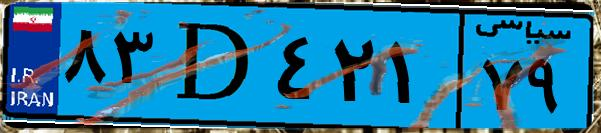1: (385, 28, 445, 110)
2: (330, 28, 385, 110)
3: (110, 28, 158, 98)
4: (270, 28, 330, 110)
7: (475, 38, 525, 113)
8: (57, 26, 110, 100)
9: (525, 38, 570, 115)
D: (158, 12, 270, 120)
